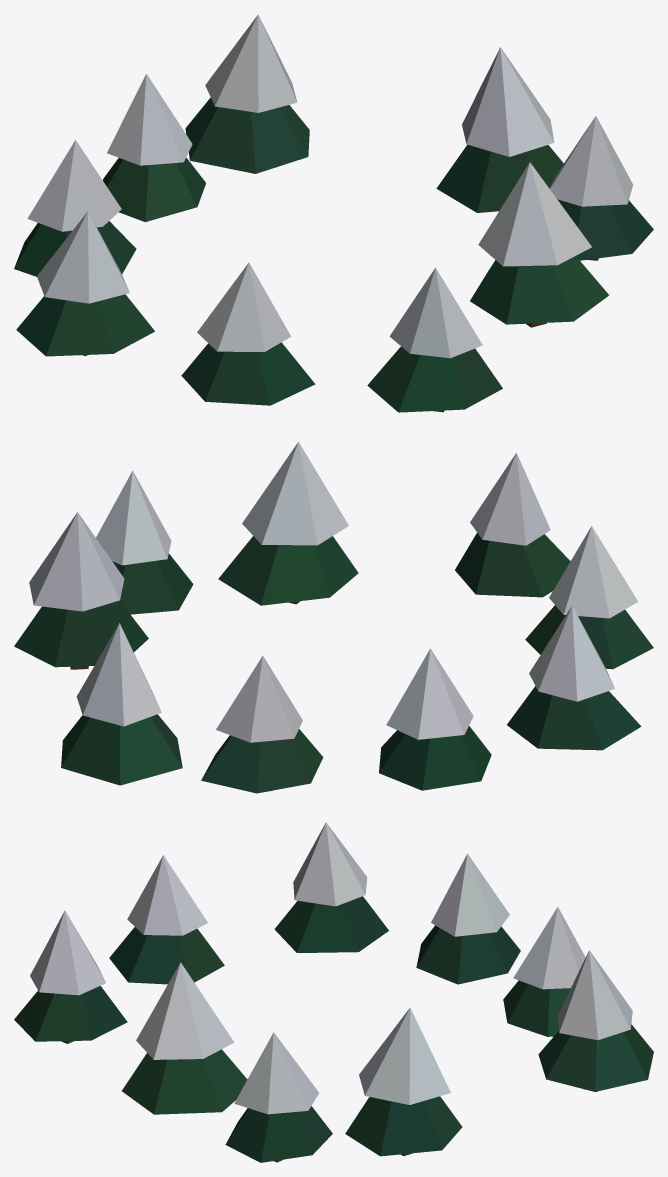
File: HillForestT.glb
3 renders of one model, top to bottom at view 1: azimuth 30°, elevation 25°; view 2: azimuth 150°, elevation 25°; view 3: azimuth 270°, elevation 25°, orthographic. The views are drawn at different scales.
Parts seen in each view (by area): view 1: HillForestT; view 2: HillForestT; view 3: HillForestT.
Boxes of the visible parts, box(x1,y1,x2,y2) form: HillForestT: box(14, 14, 653, 412); HillForestT: box(14, 442, 653, 793); HillForestT: box(14, 822, 653, 1162).
Bounding box in the file's own units: 1.62 × 0.4286 × 1.71.
